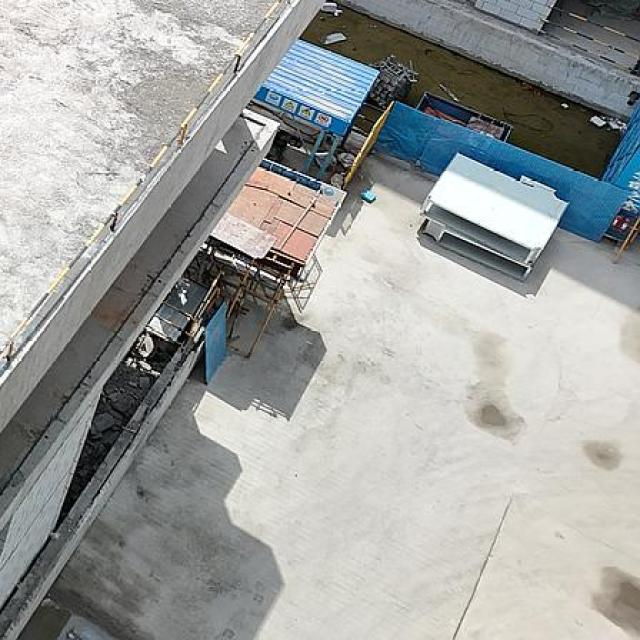edge_guardrail: (0, 0, 290, 363), (537, 5, 640, 74)
